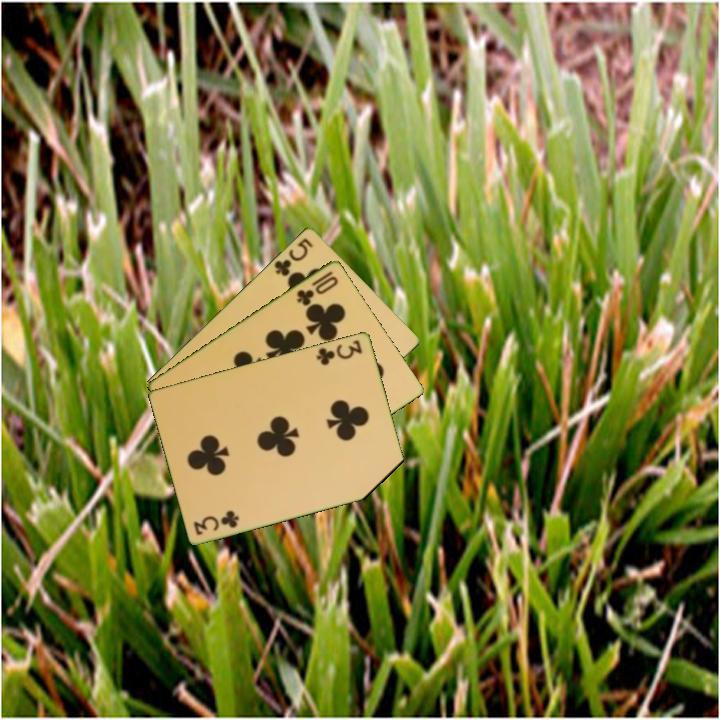10c: (293, 267, 341, 308)
3c: (313, 336, 365, 368), (190, 507, 242, 538)
5c: (270, 234, 316, 279)
